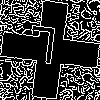L: (25, 25, 59, 74)
